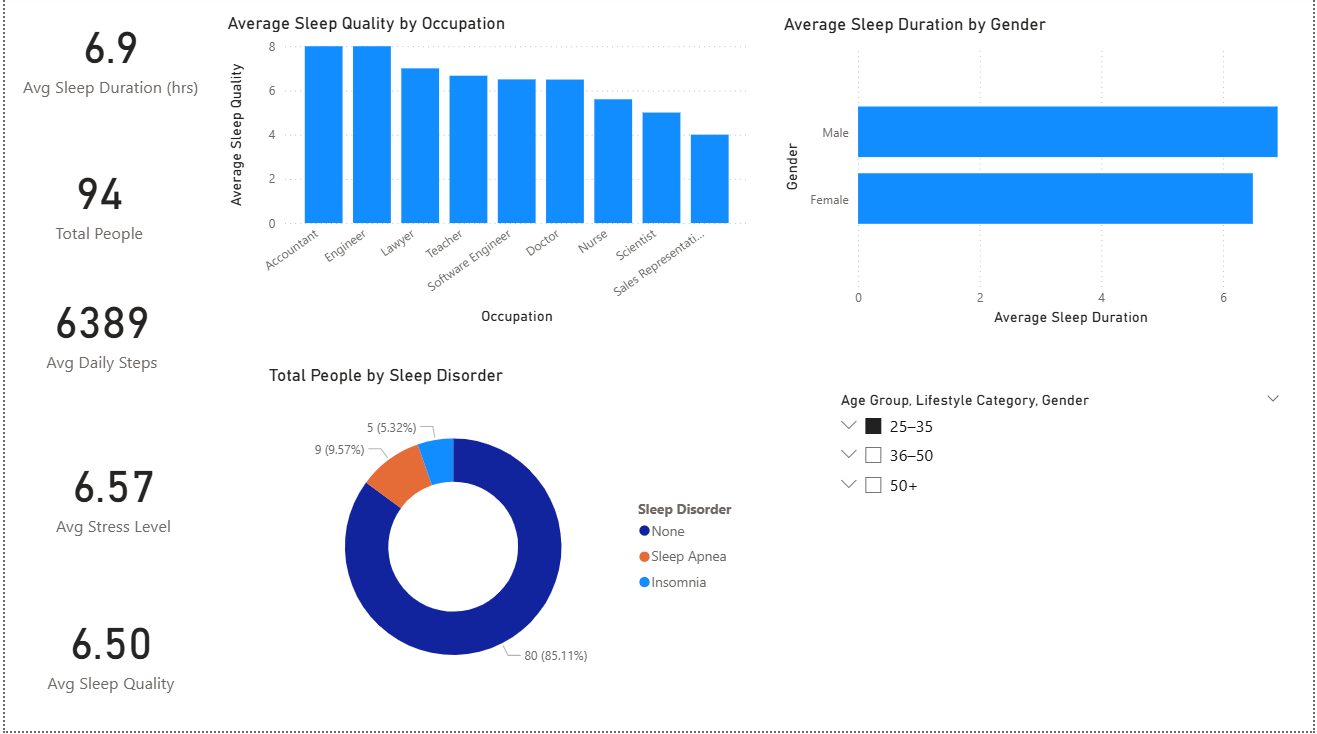

This screenshot's page, from the dashboard's own definition file:
{"tool":"powerbi","page":{"name":"Overview","canvas":[1280,720],"ordinal":0},"visuals":[{"type":"card","fields":{"Values":["sleep_data.Total People"]},"box":[0,152.5,185,95],"z":0},{"type":"card","fields":{"Values":["sleep_data.Average Sleep Duration"]},"box":[0,2.7,207.2,109.8],"z":1000},{"type":"card","fields":{"Values":["sleep_data.Average Daily Steps"]},"box":[0,270,190,112.5],"z":2000},{"type":"card","fields":{"Values":["sleep_data.Average Sleep Quality"]},"box":[0,585,207.5,112.5],"z":3000},{"type":"card","fields":{"Values":["sleep_data.Average Stress Level"]},"box":[0,430,212.5,112.5],"z":4000},{"type":"clusteredBarChart","fields":{"Category":["sleep_data.Gender"],"Y":["sleep_data.Average Sleep Duration"]},"box":[756.7,18.3,503.3,310],"z":5000},{"type":"clusteredColumnChart","fields":{"Category":["sleep_data.Occupation"],"Y":["sleep_data.Average Sleep Quality"]},"box":[212.5,17.5,520,310],"z":6000},{"type":"donutChart","fields":{"Category":["sleep_data.Sleep Disorder"],"Y":["sleep_data.Total People"]},"box":[253.3,361.7,480,336.7],"z":7000},{"type":"slicer","fields":{"Values":["sleep_data.Age Group","sleep_data.Lifestyle Category","sleep_data.Gender"]},"box":[805,383.3,455,298.3],"z":8000}]}

Visuals, with their boxes in screenshot pixels (x1, y1, x2, y2), scaled from the page's 1280x720 canvas onto the 1317x734 screenshot:
card - sleep_data.Total People: [0,155,190,252]
card - sleep_data.Average Sleep Duration: [0,3,213,115]
card - sleep_data.Average Daily Steps: [0,275,195,390]
card - sleep_data.Average Sleep Quality: [0,596,213,711]
card - sleep_data.Average Stress Level: [0,438,219,553]
clusteredBarChart - sleep_data.Gender x sleep_data.Average Sleep Duration: [779,19,1296,335]
clusteredColumnChart - sleep_data.Occupation x sleep_data.Average Sleep Quality: [219,18,754,334]
donutChart - sleep_data.Sleep Disorder x sleep_data.Total People: [261,369,754,712]
slicer - sleep_data.Age Group x sleep_data.Lifestyle Category: [828,391,1296,695]
